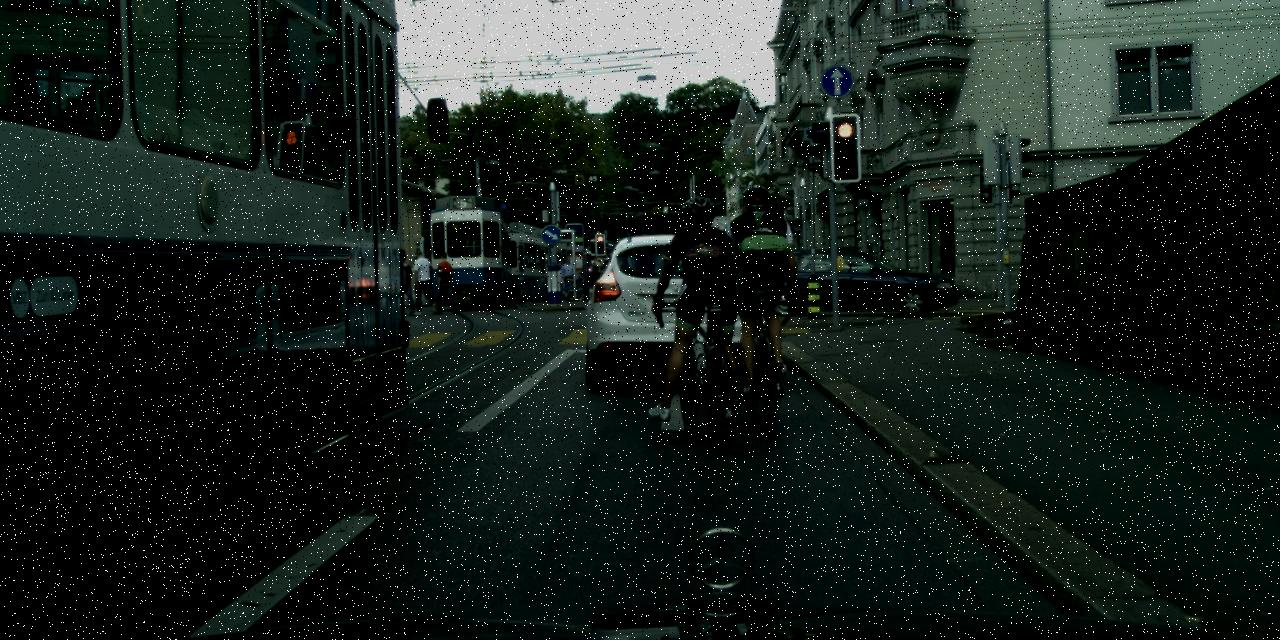ped: (651, 195, 744, 421), (720, 186, 801, 386), (410, 249, 436, 313), (390, 252, 415, 314), (432, 252, 457, 312), (559, 256, 577, 299), (554, 261, 570, 299)
